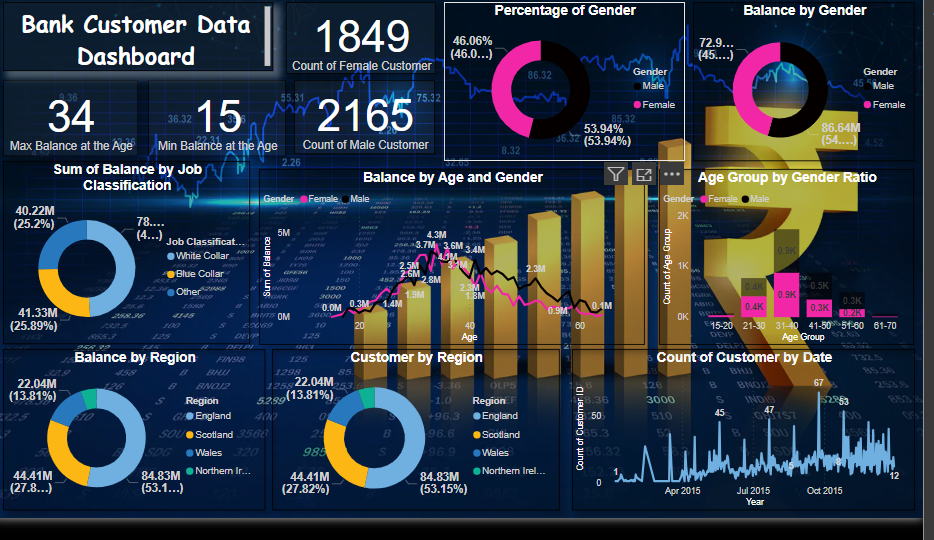

What the dashboard file says about the page in this screenshot:
{"tool":"powerbi","page":{"name":"Dashboard","canvas":[1280,720],"ordinal":0},"visuals":[{"type":"lineChart","title":"Balance by Age and Gender","fields":{"Category":["Bank-Customers (UK).Age"],"Series":["Bank-Customers (UK).Gender"],"Y":["Sum(Bank-Customers (UK).Balance)"]},"box":[365.8,239,531.4,241.9],"z":0},{"type":"lineChart","title":"Count of Customer by Date","fields":{"Y":["CountNonNull(Bank-Customers (UK).Customer ID)"],"Category":["Bank-Customers (UK).Date Joined.Variation.Date Hierarchy.Year","Bank-Customers (UK).Date Joined.Variation.Date Hierarchy.Quarter","Bank-Customers (UK).Date Joined.Variation.Date Hierarchy.Month","Bank-Customers (UK).Date Joined.Variation.Date Hierarchy.Day"]},"box":[796.3,486.7,472.3,221.8],"z":1000},{"type":"columnChart","title":"Age Group by Gender Ratio","fields":{"Category":["Bank-Customers (UK).Age Group"],"Y":["CountNonNull(Bank-Customers (UK).Age Group)"],"Series":["Bank-Customers (UK).Gender"]},"box":[917.3,239,351.4,241.9],"z":2000},{"type":"donutChart","title":"Balance by Region","fields":{"Y":["Sum(Bank-Customers (UK).Balance)"],"Category":["Bank-Customers (UK).Region"]},"box":[14.4,486.7,361.4,221.8],"z":3000},{"type":"donutChart","title":"Customer by Region","fields":{"Category":["Bank-Customers (UK).Region"],"Y":["Sum(Bank-Customers (UK).Balance)"]},"box":[384.5,486.7,396,221.8],"z":4000},{"type":"donutChart","fields":{"Category":["Bank-Customers (UK).Job Classification"],"Y":["Sum(Bank-Customers (UK).Balance)"]},"box":[14.4,229,339.8,252],"z":5000},{"type":"donutChart","title":"Percentage of Gender","fields":{"Y":["CountNonNull(Bank-Customers (UK).Gender)"],"Category":["Bank-Customers (UK).Gender"]},"box":[620.6,10.1,331.2,218.9],"z":6000},{"type":"donutChart","title":"Balance by Gender","fields":{"Category":["Bank-Customers (UK).Gender"],"Y":["Sum(Bank-Customers (UK).Balance)"]},"box":[963.4,10.1,305.3,218.9],"z":7000},{"type":"card","fields":{"Values":["Max(Bank-Customers (UK).Age)"]},"box":[14.4,116.6,185.8,105.1],"z":8000},{"type":"card","fields":{"Values":["Min(Bank-Customers (UK).Age)"]},"box":[213.1,116.6,190.1,105.1],"z":9000},{"type":"card","title":"Count of Female Cust","fields":{"Values":["CountNonNull(Bank-Customers (UK).Gender)"]},"box":[403.2,10.1,205.9,99.4],"z":10000},{"type":"card","fields":{"Values":["CountNonNull(Bank-Customers (UK).Gender)"]},"box":[414.7,116.6,194.4,102.2],"z":11000},{"type":"textbox","box":[14.4,10.1,371.5,95],"z":12000}]}

Visuals, with their boxes in screenshot pixels (x1, y1, x2, y2), scaled from the page's 1280x720 canvas onto the 934x540 screenshot:
"Balance by Age and Gender" lineChart: l=267, t=179, r=655, b=361
"Count of Customer by Date" lineChart: l=581, t=365, r=926, b=531
"Age Group by Gender Ratio" columnChart: l=669, t=179, r=926, b=361
"Balance by Region" donutChart: l=11, t=365, r=274, b=531
"Customer by Region" donutChart: l=281, t=365, r=570, b=531
donutChart - Bank-Customers (UK).Job Classification x Sum(Bank-Customers (UK).Balance): l=11, t=172, r=258, b=361
"Percentage of Gender" donutChart: l=453, t=8, r=695, b=172
"Balance by Gender" donutChart: l=703, t=8, r=926, b=172
card - Max(Bank-Customers (UK).Age): l=11, t=87, r=146, b=166
card - Min(Bank-Customers (UK).Age): l=155, t=87, r=294, b=166
"Count of Female Cust" card: l=294, t=8, r=444, b=82
card - CountNonNull(Bank-Customers (UK).Gender): l=303, t=87, r=444, b=164
textbox: l=11, t=8, r=282, b=79
